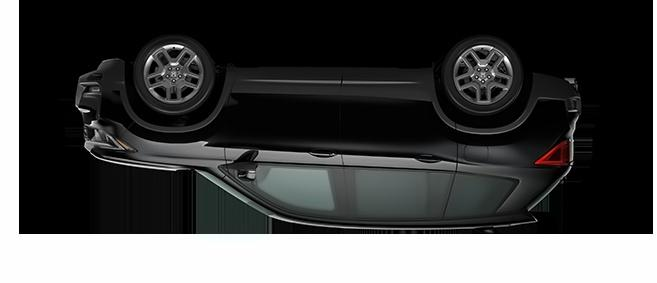Driver-s door - -F-R-: (229, 78, 348, 230)
Fender - -F-R-: (126, 64, 241, 173)
Fender - -R-R-: (445, 98, 563, 173)
Front bumper: (51, 51, 137, 122)
Headlight - -R-: (74, 121, 142, 157)
Passenger-s door - -R-R-: (343, 78, 460, 232)
Rear bumper: (524, 57, 592, 121)
Rear light - -R-: (529, 134, 582, 173)
Side bumper - -R-: (224, 57, 439, 97)
Side mirror - -R-: (224, 152, 261, 182)
